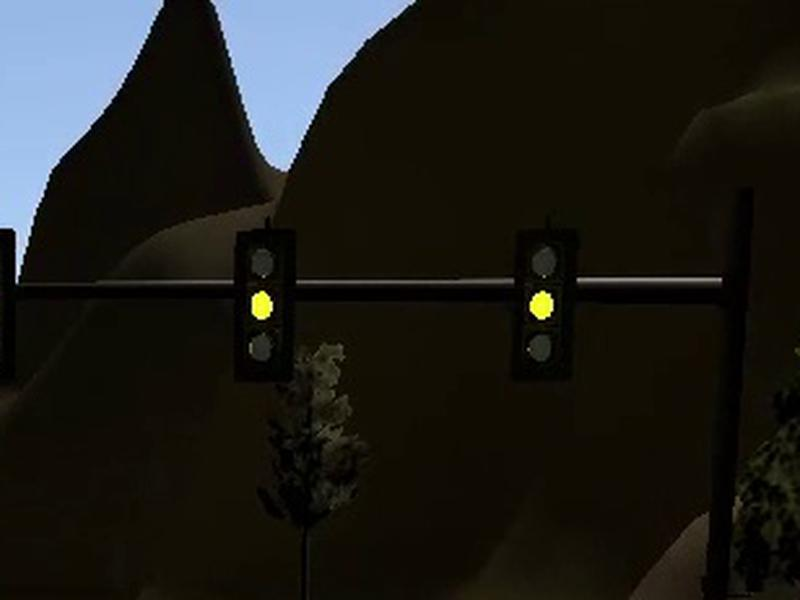Yellow: (509, 226, 582, 383), (233, 228, 298, 383)
